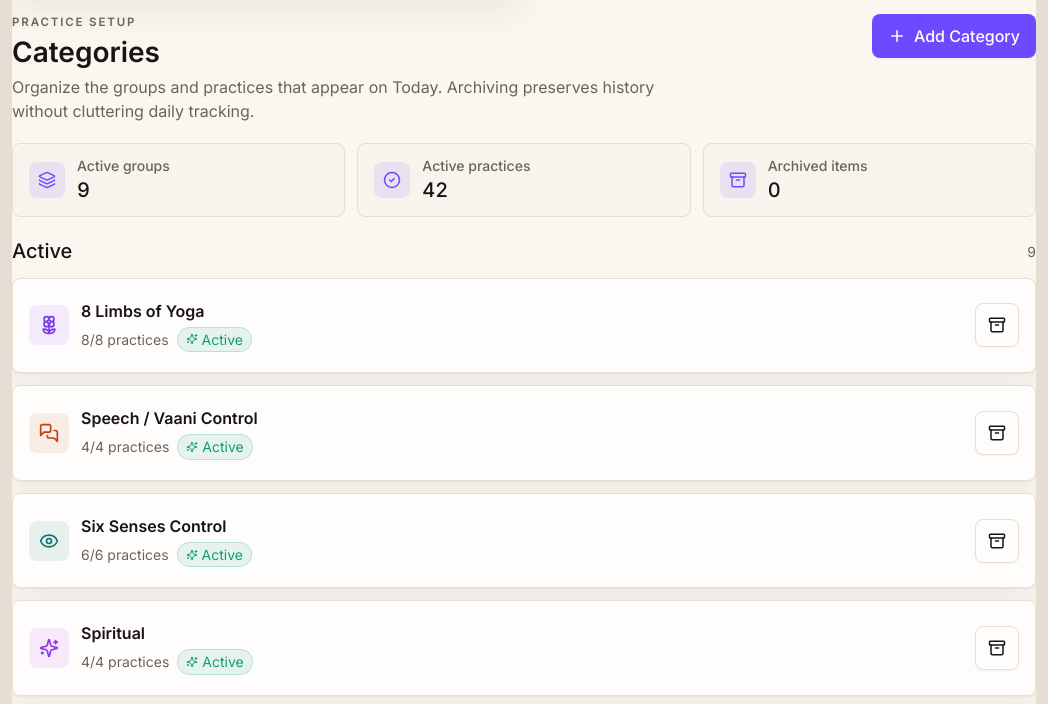
it: SettingsScreen › shows tracker categories and opens a category with its habits
The width and height of the screenshot is (1048, 704).
(page scrolled)
Check: the text "8 Limbs of Yoga" is shown, box x1=81 y1=300 x2=204 y2=320
Click the button with aria-label "Edit 8 Limbs of Yoga" at (49, 325), box x1=29 y1=294 x2=963 y2=356
(page scrolled)
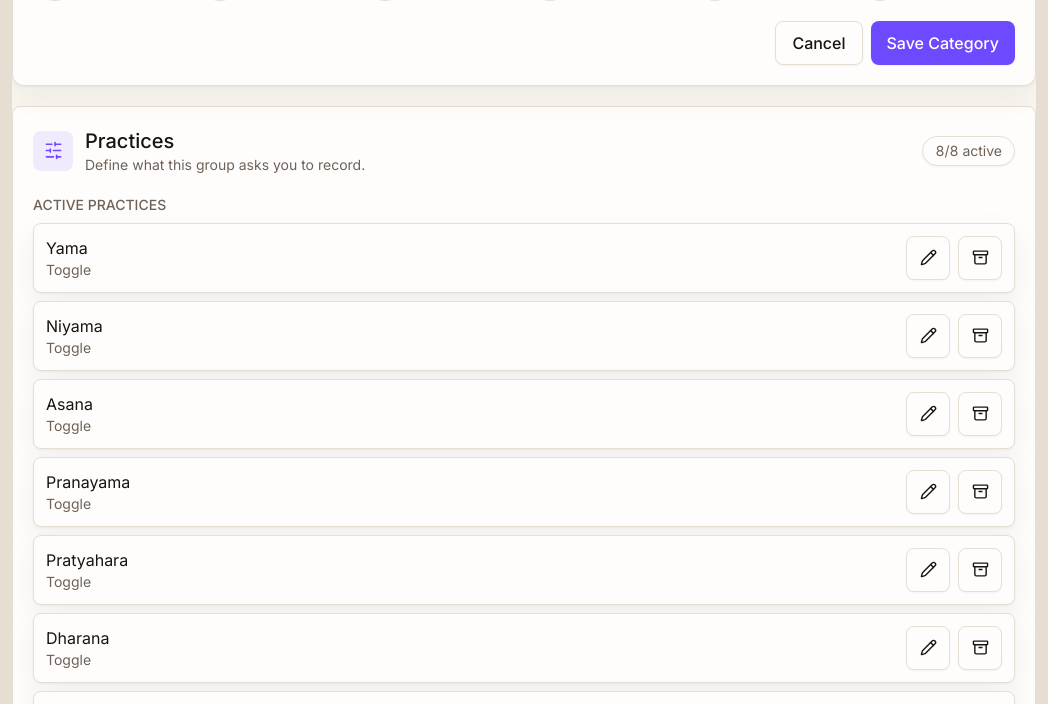
Check: the text "Yama" is shown, box x1=46 y1=238 x2=88 y2=258
Check: the text "Niyama" is shown, box x1=46 y1=316 x2=103 y2=336
